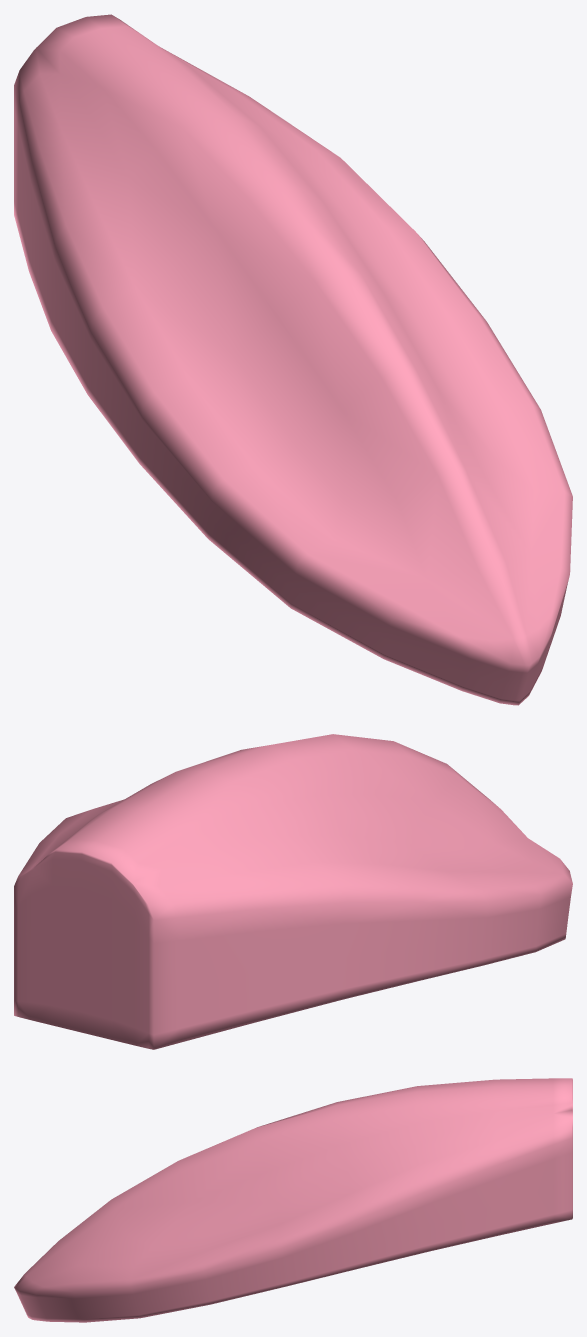
3 renders of one model, top to bottom at view 1: azimuth 30°, elevation 25°; view 2: azimuth 150°, elevation 25°; view 3: azimuth 270°, elevation 25°, orthographic. The views are drawn at different scales.
Parts seen in each view (by area): view 1: Plane348; view 2: Plane348; view 3: Plane348.
Part boxes in pixels (x1,y1,x2,y2): Plane348: [14, 14, 572, 705]; Plane348: [14, 734, 572, 1049]; Plane348: [14, 1078, 572, 1322].
Size of the model in its own units: 0.0402 by 0.0415 by 0.0902.
